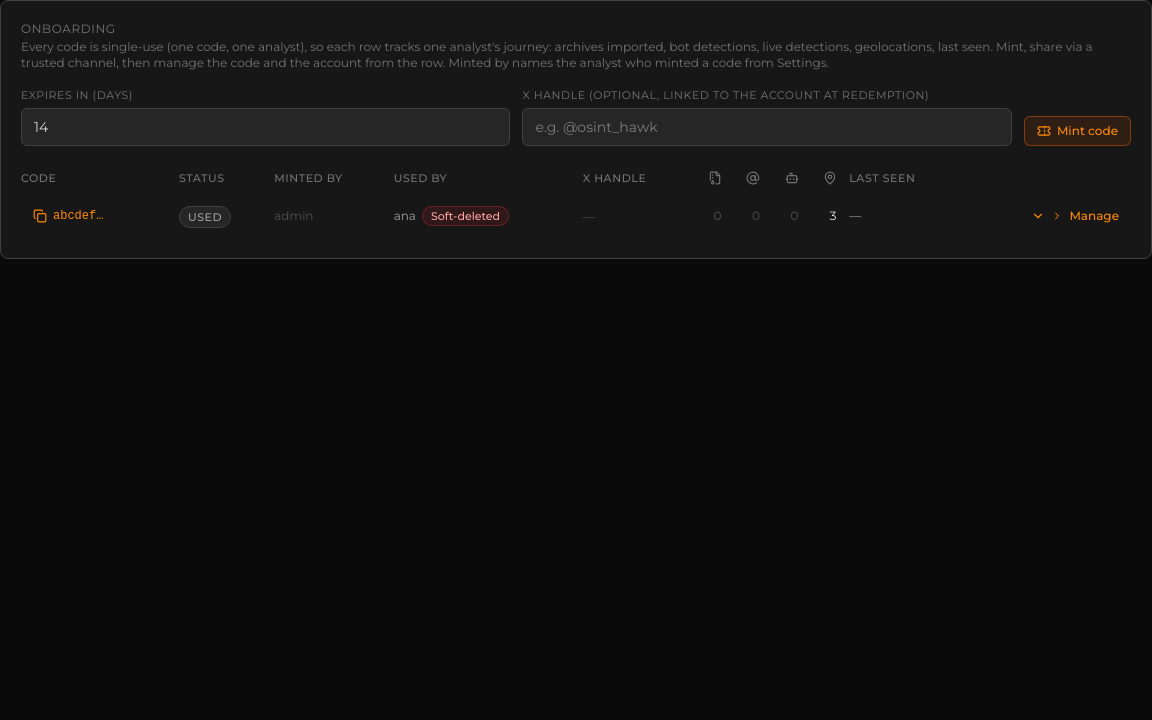
it: <OnboardingPanel> › sums up what a hard delete erased
This screenshot has width=1152, height=720.
Click the button "Manage".
click(1075, 216)  # box [1019,202,1131,230]
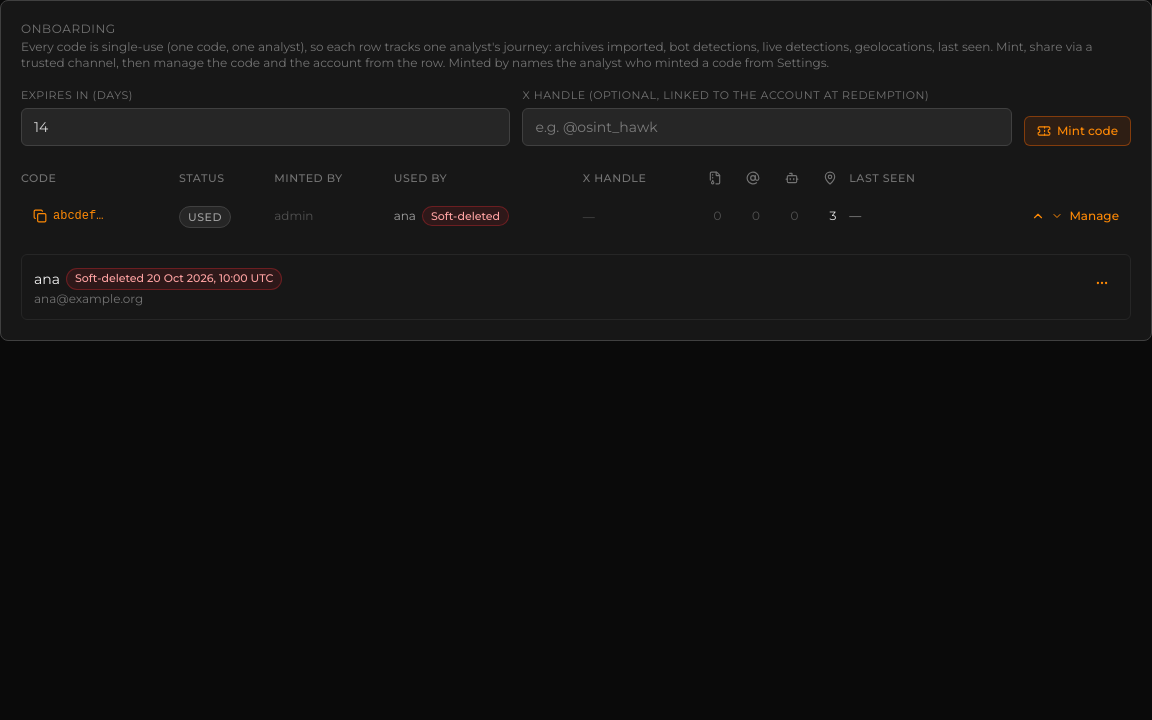
Click the button named "Actions for ana".
click(1102, 283)  # box [1086,267,1118,299]
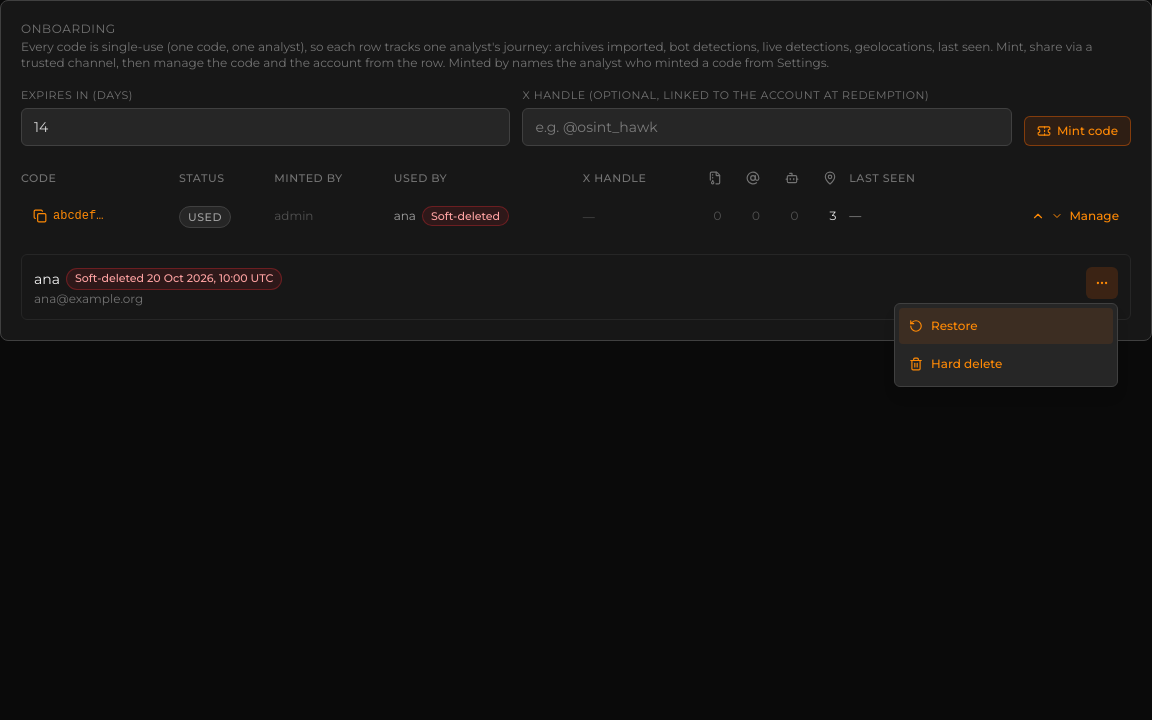
Click the menu item "Hard delete".
click(1006, 364)  # box [899,346,1113,382]
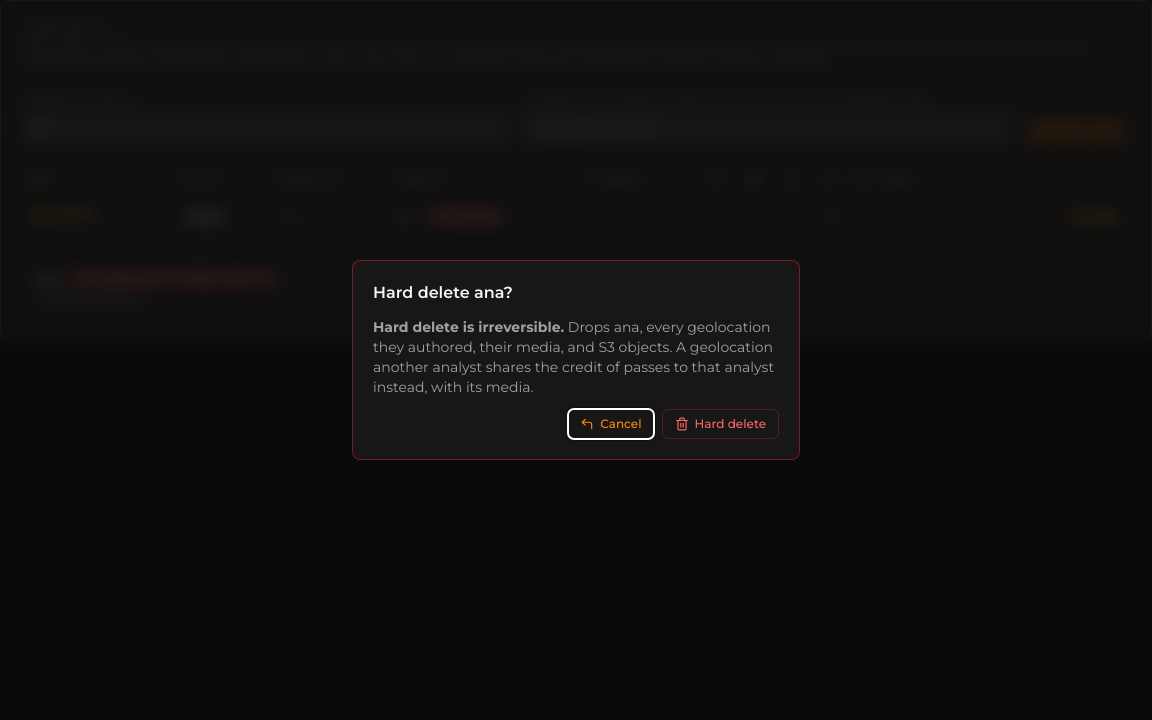
Click the button "Hard delete".
click(720, 424)  # box [662,409,779,439]
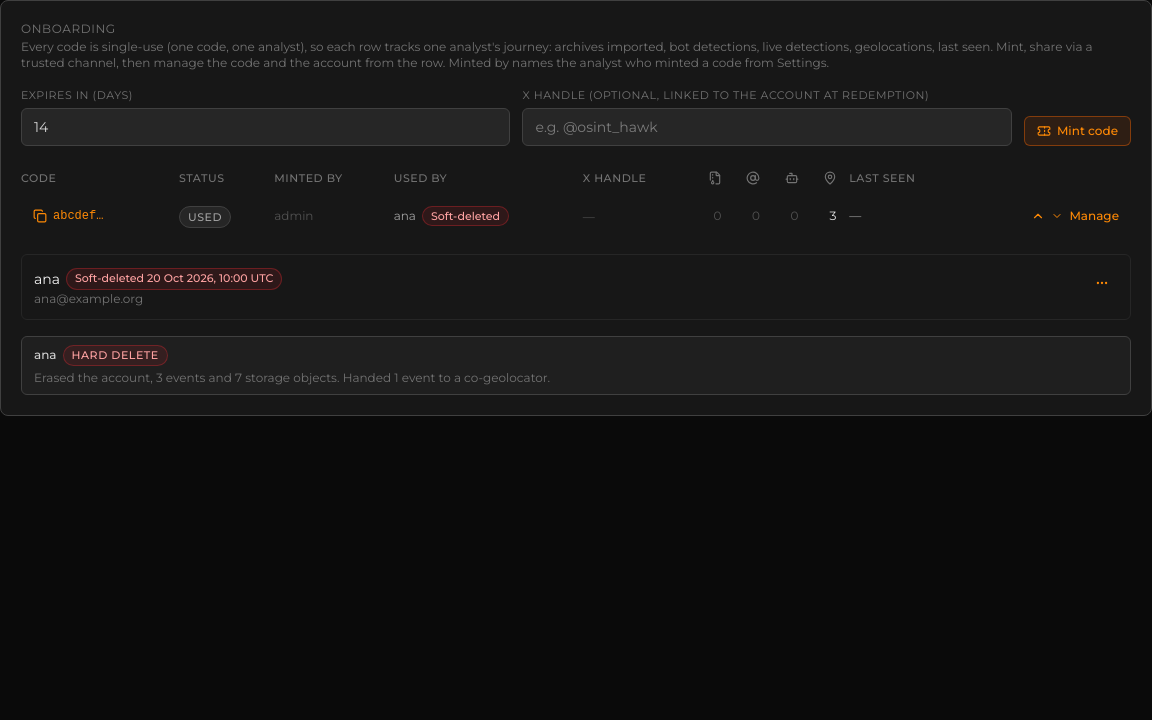
Check: the text "Erased the account, 3 events and 7 storage objects. Handed 1 event to a co-geolocator." is shown, box [34,370,550,385]
